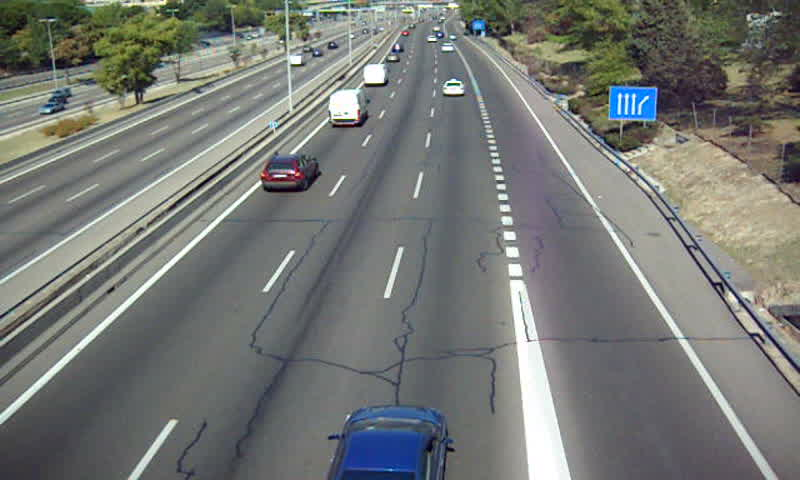car: (327, 406, 446, 480), (261, 153, 319, 190), (442, 80, 465, 96), (384, 52, 400, 64)
van: (327, 89, 367, 126), (361, 65, 387, 86)
